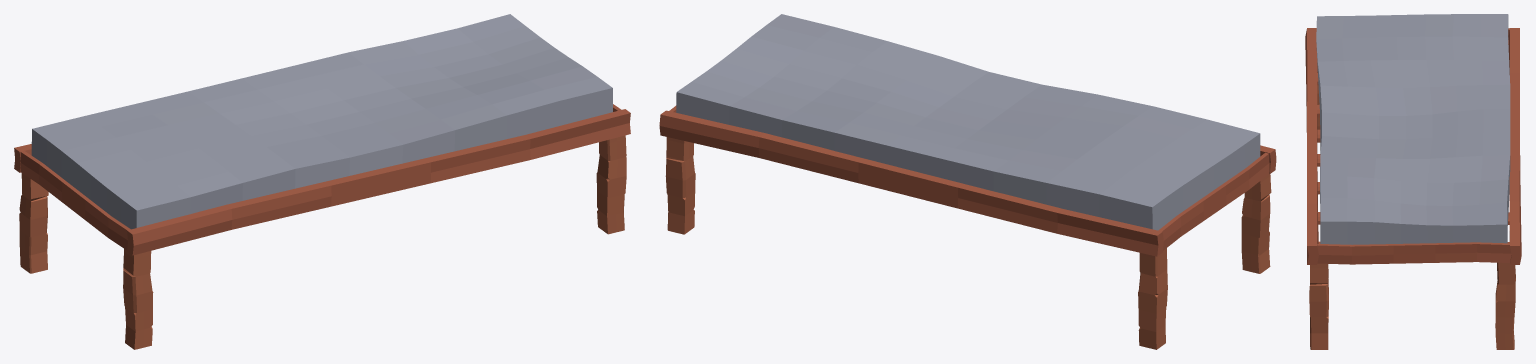
The model's file is bed2.fbx.
3 renders of one model, left to right at view 1: azimuth 30°, elevation 25°; view 2: azimuth 150°, elevation 25°; view 3: azimuth 270°, elevation 25°, orthographic. The views are drawn at different scales.
Visible parts, largest first — view 1: bed 2; view 2: bed 2; view 3: bed 2.
Boxes of the visible parts, left/top/right/bottom form: bed 2: left=14, top=14, right=630, bottom=349; bed 2: left=659, top=14, right=1276, bottom=349; bed 2: left=1305, top=14, right=1521, bottom=349.
Size of the model in its own units: 200 by 53.57 by 83.85.
